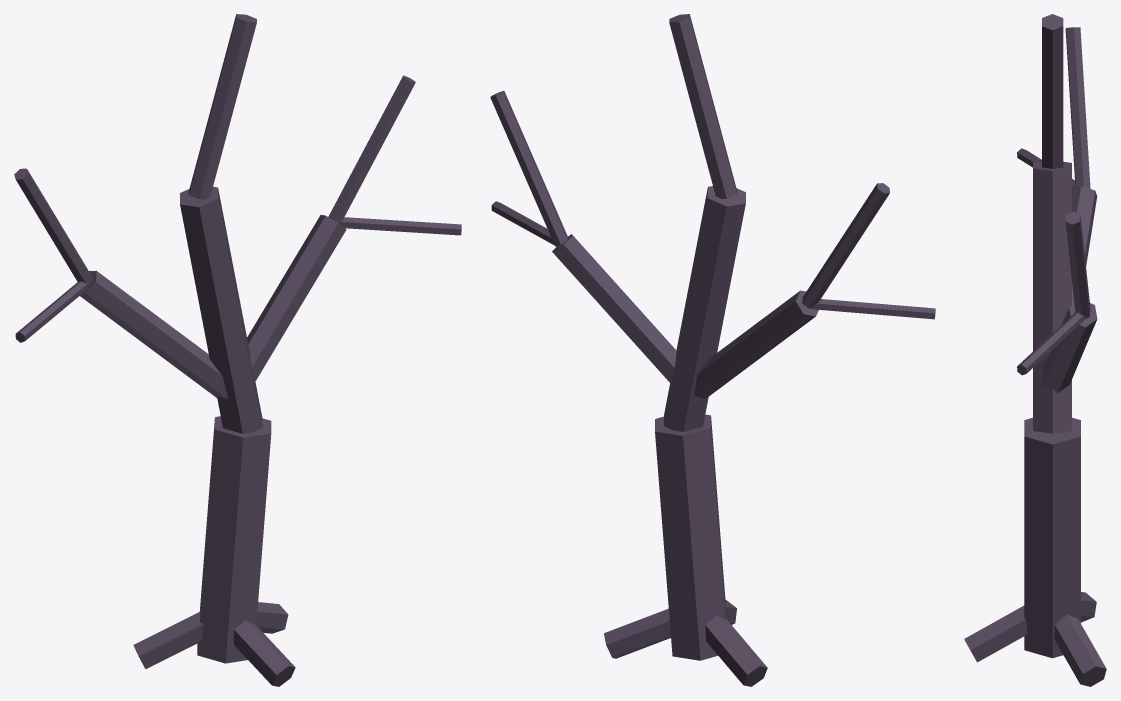
The model's file is dead_tree.glb.
3 renders of one model, left to right at view 1: azimuth 30°, elevation 25°; view 2: azimuth 150°, elevation 25°; view 3: azimuth 270°, elevation 25°, orthographic.
Visible parts, largest first — view 1: twisted branch, twisted branch.001, twisted branch.003, twisted branch.006, twisted branch.002, twisted branch.007, twisted branch.011, twisted branch.004, twisted branch.010, twisted branch.008, twisted branch.005, twisted branch.009; view 2: twisted branch, twisted branch.001, twisted branch.006, twisted branch.002, twisted branch.003, twisted branch.007, twisted branch.004, twisted branch.010, twisted branch.009, twisted branch.005, twisted branch.008; view 3: twisted branch, twisted branch.001, twisted branch.002, twisted branch.004, twisted branch.006, twisted branch.009, twisted branch.011, twisted branch.007, twisted branch.003, twisted branch.008, twisted branch.010, twisted branch.005.
Boxes of the visible parts, x1,y1,x2,y2 form: twisted branch: (197,416,271,663); twisted branch.001: (180,186,262,433); twisted branch.003: (80,270,227,398); twisted branch.006: (247,215,346,382); twisted branch.002: (188,14,256,199); twisted branch.007: (328,75,415,223); twisted branch.011: (234,620,295,686); twisted branch.004: (14,168,92,285); twisted branch.010: (133,611,203,668); twisted branch.008: (339,217,461,235); twisted branch.005: (15,281,88,342); twisted branch.009: (256,602,288,633); twisted branch: (655,414,726,660); twisted branch.001: (664,186,745,431); twisted branch.006: (552,234,676,383); twisted branch.002: (669,14,737,198); twisted branch.003: (694,290,818,398); twisted branch.007: (490,91,568,246); twisted branch.004: (802,183,889,308); twisted branch.010: (705,615,767,686); twisted branch.009: (604,608,670,658); twisted branch.005: (808,299,935,319); twisted branch.008: (491,201,560,246); twisted branch: (1024,417,1080,658); twisted branch.001: (1033,161,1071,433); twisted branch.002: (1042,14,1063,168); twisted branch.004: (1065,27,1090,188); twisted branch.006: (1042,303,1097,392); twisted branch.009: (1054,614,1106,686); twisted branch.011: (964,605,1027,662); twisted branch.007: (1065,211,1090,318); twisted branch.003: (1072,186,1097,304); twisted branch.008: (1017,312,1085,375); twisted branch.010: (1081,592,1096,622); twisted branch.005: (1017,148,1075,187).
Size of the model in its own units: 2.53 by 3.49 by 0.6967.
